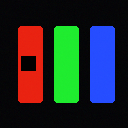1 square: (21, 56, 35, 70)
